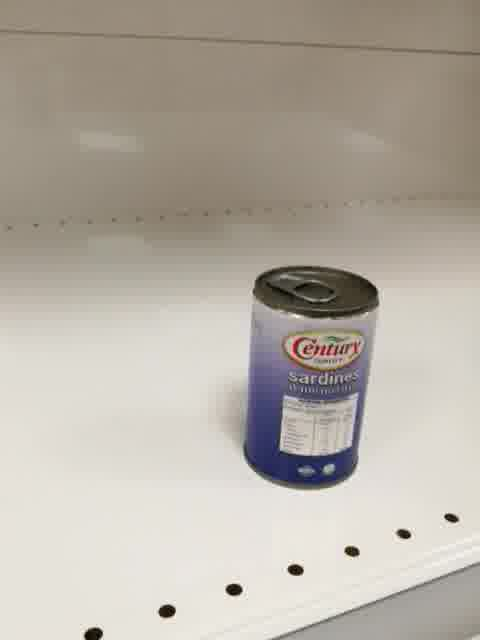sardine: (242, 262, 379, 492)
